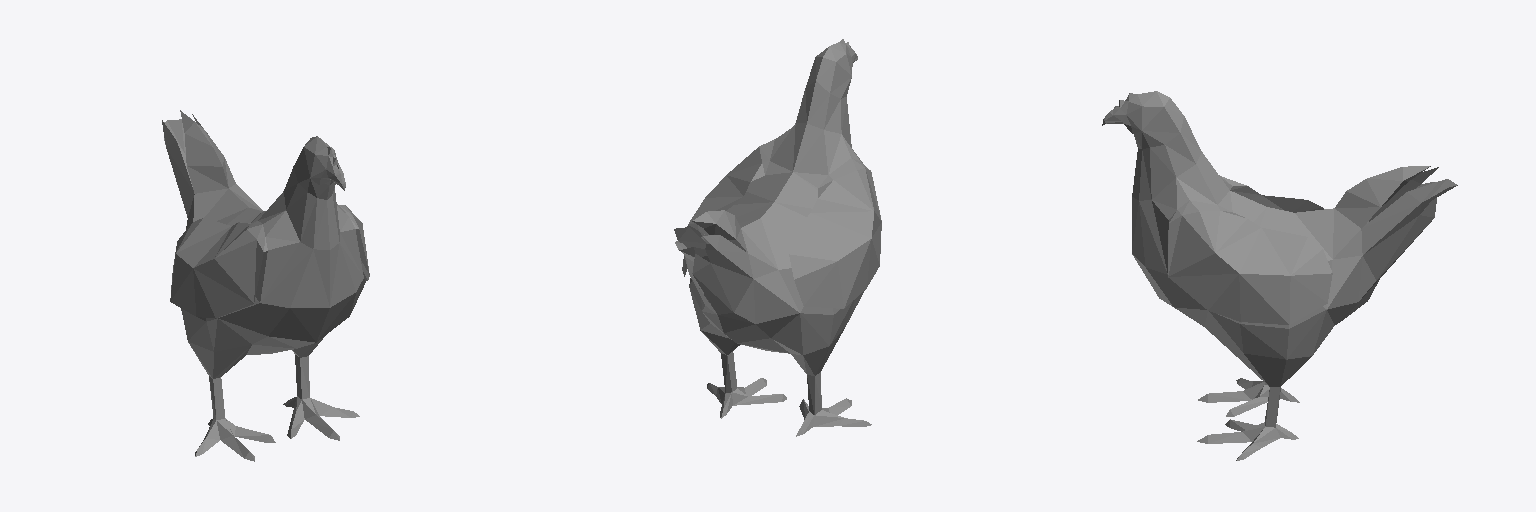
Rendered from chicken.obj.
3 views of the same model, side by side, from view 1: azimuth 30°, elevation 25°; view 2: azimuth 150°, elevation 25°; view 3: azimuth 270°, elevation 25° (orthographic).
Visible parts, largest first — view 1: skel_chicken; view 2: skel_chicken; view 3: skel_chicken.
Part boxes in pixels (bbox=[...]): skel_chicken: bbox=[162, 110, 369, 461]; skel_chicken: bbox=[674, 39, 881, 436]; skel_chicken: bbox=[1102, 91, 1457, 460].
Bounding box in the file's own units: 20.29 × 38.4 × 37.54.